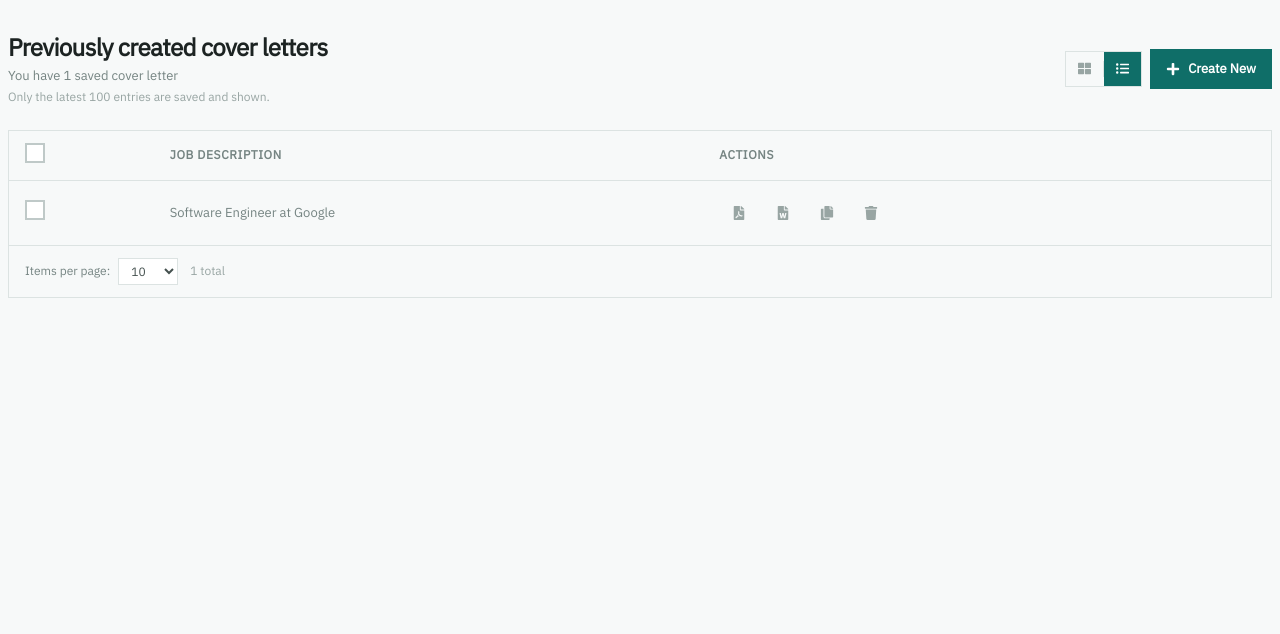
PreviousCoverLettersView — downloads › opens the design picker instead of downloading immediately
Click the button titled "Choose a PDF design" at (739, 212), box [719,192,759,232]
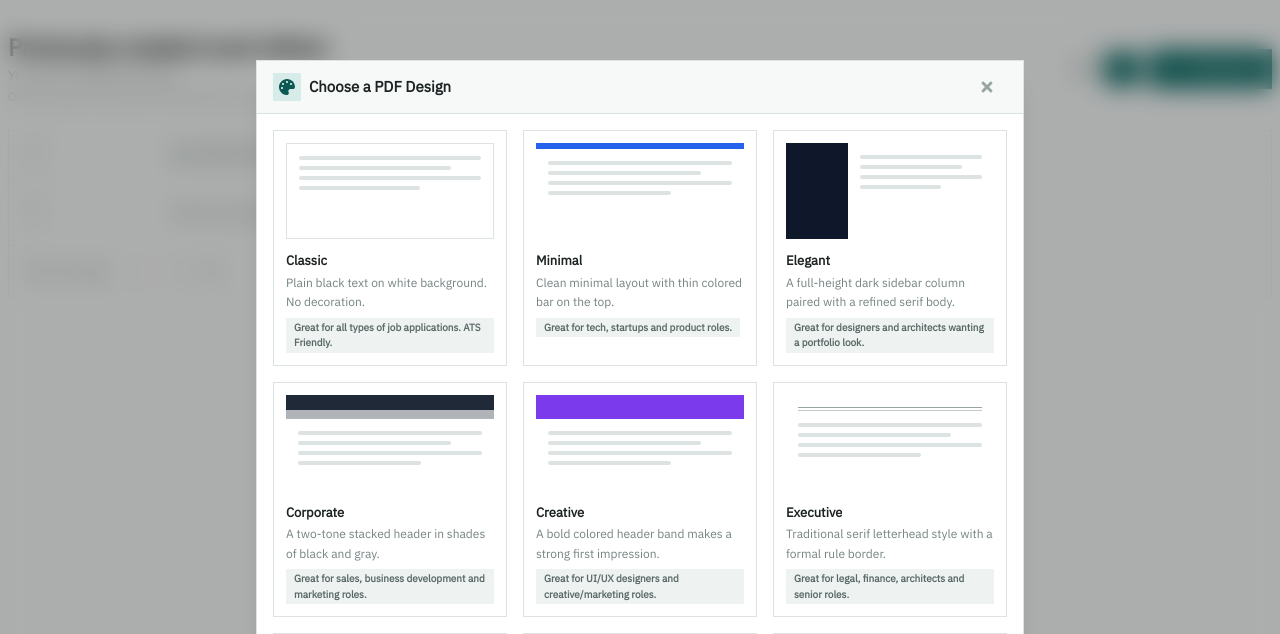
Expected: the heading "Choose a PDF Design" is shown, [309,75,451,99]
